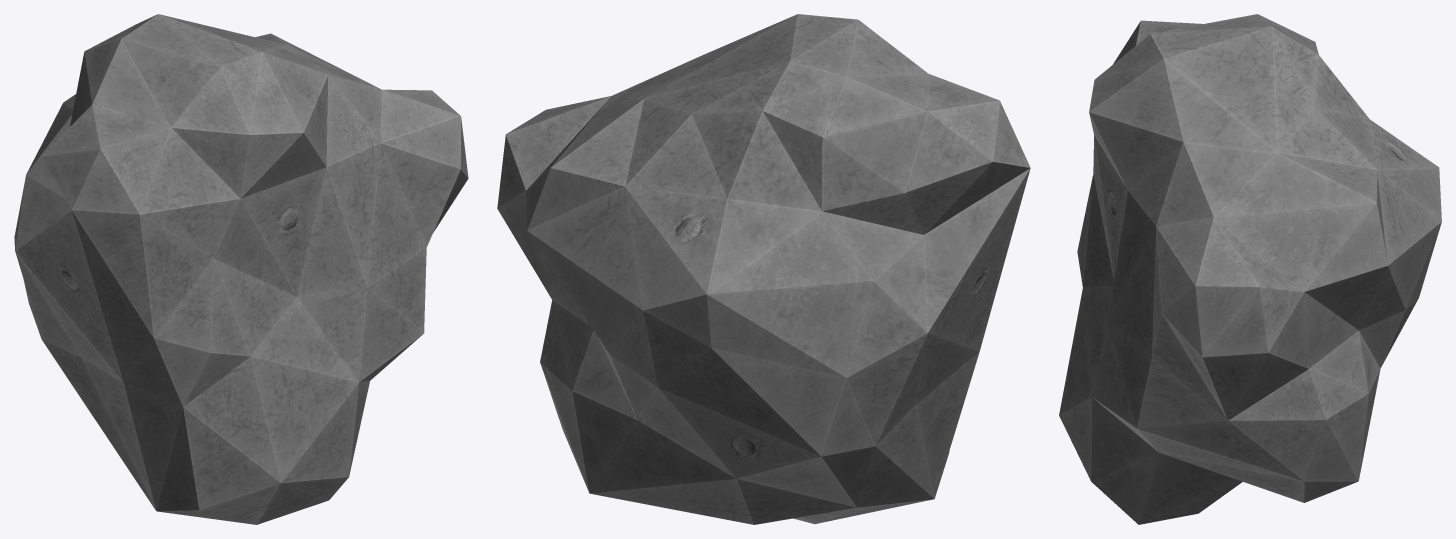
Rendered from LargeAsteroid.obj.
3 renders of one model, left to right at view 1: azimuth 30°, elevation 25°; view 2: azimuth 150°, elevation 25°; view 3: azimuth 270°, elevation 25°, orthographic. The views are drawn at different scales.
Parts seen in each view (by area): view 1: Large_Asteroid_Mesh; view 2: Large_Asteroid_Mesh; view 3: Large_Asteroid_Mesh.
Part boxes in pixels (left/top/right/bottom): Large_Asteroid_Mesh: left=14, top=14, right=468, bottom=524; Large_Asteroid_Mesh: left=497, top=14, right=1030, bottom=524; Large_Asteroid_Mesh: left=1059, top=14, right=1441, bottom=524.
Size of the model in its own units: 1 by 1.06 by 0.7973.
